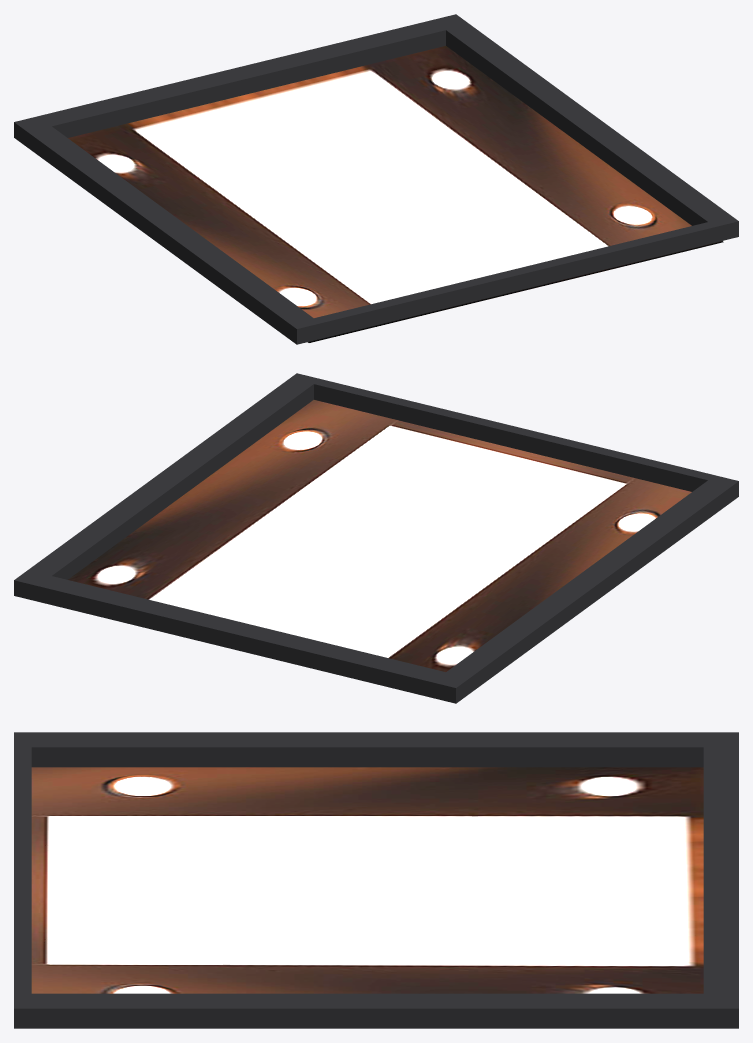
Rendered from ceiling_DD302.glb.
The picture shows the model from 3 angles, top to bottom: view 1: azimuth 30°, elevation 25°; view 2: azimuth 150°, elevation 25°; view 3: azimuth 270°, elevation 25°; orthographic projection. The views are drawn at different scales.
Parts seen in each view (by area): view 1: Ceiling_Shell, Ceiling_Mirror, Ceiling_Panel_R, Ceiling_Panel_L; view 2: Ceiling_Shell, Ceiling_Mirror, Ceiling_Panel_R, Ceiling_Panel_L; view 3: Ceiling_Shell, Ceiling_Mirror, Ceiling_Panel_L, Ceiling_Panel_R.
Part boxes in pixels (<box>): Ceiling_Shell: <box>14,14,738,344</box>; Ceiling_Mirror: <box>173,76,592,310</box>; Ceiling_Panel_R: <box>322,46,726,273</box>; Ceiling_Panel_L: <box>68,112,442,343</box>; Ceiling_Shell: <box>14,373,738,703</box>; Ceiling_Mirror: <box>192,430,586,646</box>; Ceiling_Panel_R: <box>68,400,437,609</box>; Ceiling_Panel_L: <box>341,466,691,671</box>; Ceiling_Shell: <box>14,732,738,1028</box>; Ceiling_Mirror: <box>31,845,703,939</box>; Ceiling_Panel_L: <box>31,767,703,845</box>; Ceiling_Panel_R: <box>31,939,703,993</box>.
Bounding box in the file's own units: 1.48 × 0.056 × 1.64.
Materials: 3 (1 with a texture image).
